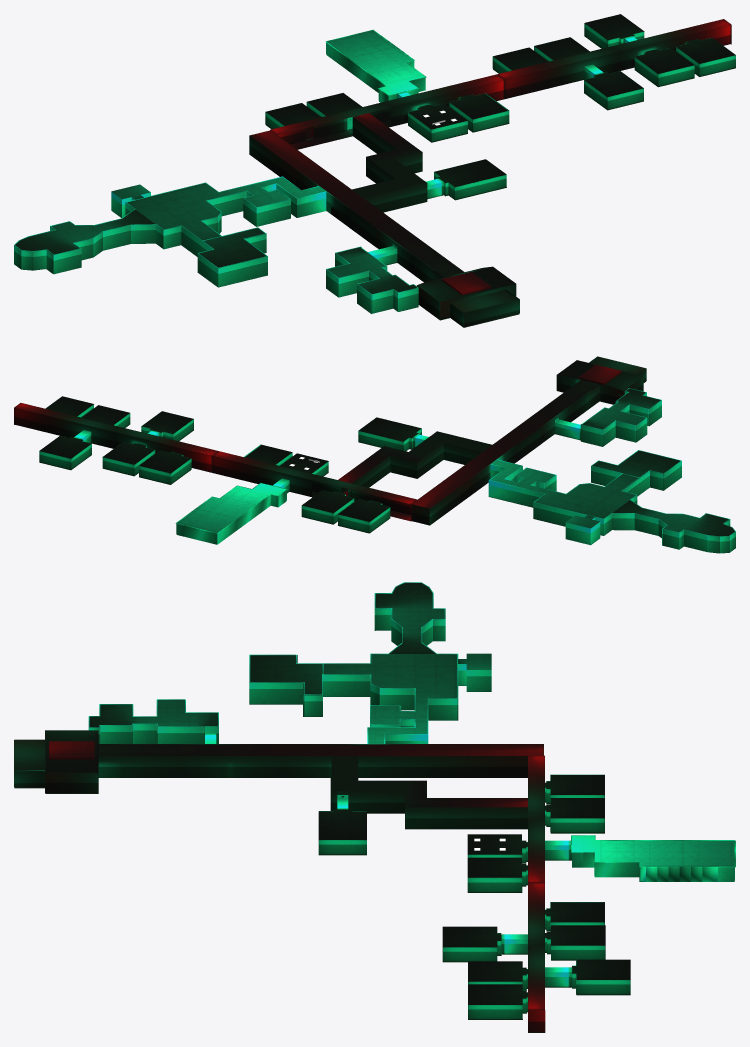
The model's file is hospital levelDesignL3.fbx.
The picture shows the model from 3 angles, top to bottom: view 1: azimuth 30°, elevation 25°; view 2: azimuth 150°, elevation 25°; view 3: azimuth 270°, elevation 25°; orthographic projection. The views are drawn at different scales.
Visible parts, largest first — view 1: MorhuePoster, Maintenance, breakRoom, Morgue, generatorRoom, fuelStorage, floor and ceiling, MainCorridor02.001, MainCorridor, bathrooms, MainCorridor02, MainCorridor02.002 (+12 smaller); view 2: MorhuePoster, Maintenance, breakRoom, generatorRoom, Morgue, fuelStorage, MainCorridor, floor and ceiling, MainCorridor02.002, MainCorridor02.001, bathrooms, MainCorridor02 (+13 smaller); view 3: MorhuePoster, Maintenance, Morgue, generatorRoom, floor and ceiling, breakRoom, fuelStorage, bathrooms, room664.003, room664.004, room665, room665.003 (+13 smaller).
Part boxes in pixels (bbox=[...]): MorhuePoster: bbox=[249, 113, 464, 282]; Maintenance: bbox=[125, 176, 326, 256]; breakRoom: bbox=[14, 209, 155, 274]; Morgue: bbox=[416, 266, 519, 327]; generatorRoom: bbox=[326, 246, 418, 313]; fuelStorage: bbox=[197, 227, 267, 287]; floor and ceiling: bbox=[326, 30, 424, 95]; MainCorridor02.001: bbox=[497, 47, 618, 98]; MainCorridor: bbox=[383, 74, 504, 126]; bathrooms: bbox=[426, 159, 506, 200]; MainCorridor02: bbox=[270, 102, 390, 149]; MainCorridor02.002: bbox=[610, 19, 731, 71]; MorhuePoster: bbox=[337, 380, 599, 525]; Maintenance: bbox=[488, 459, 639, 535]; breakRoom: bbox=[612, 499, 735, 553]; generatorRoom: bbox=[555, 388, 661, 446]; Morgue: bbox=[556, 356, 646, 404]; fuelStorage: bbox=[591, 450, 681, 494]; MainCorridor: bbox=[212, 451, 318, 496]; floor and ceiling: bbox=[177, 483, 286, 532]; MainCorridor02.002: bbox=[14, 403, 119, 448]; MainCorridor02.001: bbox=[113, 427, 218, 472]; bathrooms: bbox=[358, 417, 428, 451]; MainCorridor02: bbox=[312, 475, 417, 521]; MorhuePoster: bbox=[97, 744, 543, 829]; Maintenance: bbox=[323, 653, 458, 743]; Morgue: bbox=[14, 730, 98, 793]; generatorRoom: bbox=[88, 699, 218, 743]; floor and ceiling: bbox=[572, 835, 734, 881]; breakRoom: bbox=[374, 582, 445, 653]; fuelStorage: bbox=[249, 654, 323, 716]; bathrooms: bbox=[318, 798, 366, 855]; room664.003: bbox=[442, 926, 502, 962]; room664.004: bbox=[572, 959, 630, 995]; room665: bbox=[467, 857, 527, 892]; room665.003: bbox=[468, 984, 527, 1019].
Size of the model in its own units: 18411 by 475 by 13133.
